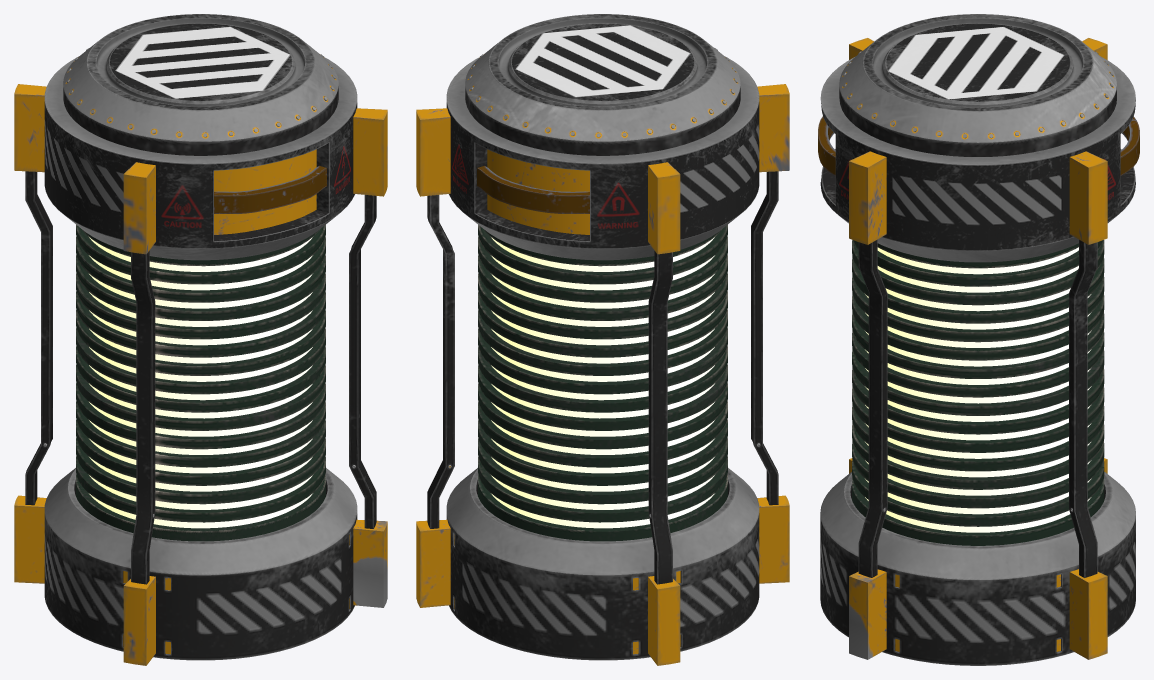
File: 1794834887288_powerpod_-_electric_battery.glb
The picture shows the model from 3 angles, left to right: view 1: azimuth 30°, elevation 25°; view 2: azimuth 150°, elevation 25°; view 3: azimuth 270°, elevation 25°; orthographic projection.
Visible parts, largest first — view 1: Battery_0; view 2: Battery_0; view 3: Battery_0.
Boxes of the visible parts, x1=… form: Battery_0: x1=14, y1=14, x2=387, y2=665; Battery_0: x1=416, y1=14, x2=789, y2=665; Battery_0: x1=818, y1=14, x2=1139, y2=665.
Bounding box in the file's own units: 2 × 3.75 × 2.04.
Materials: 1 (1 with a texture image).
